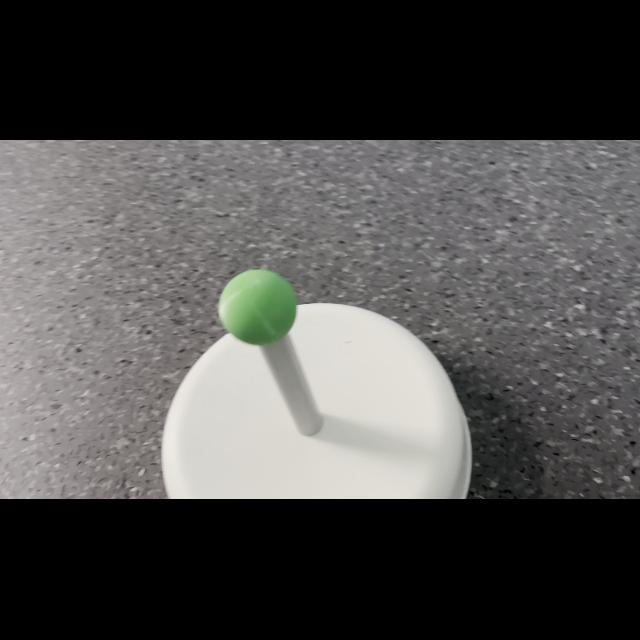objects: (216, 264, 302, 348)
